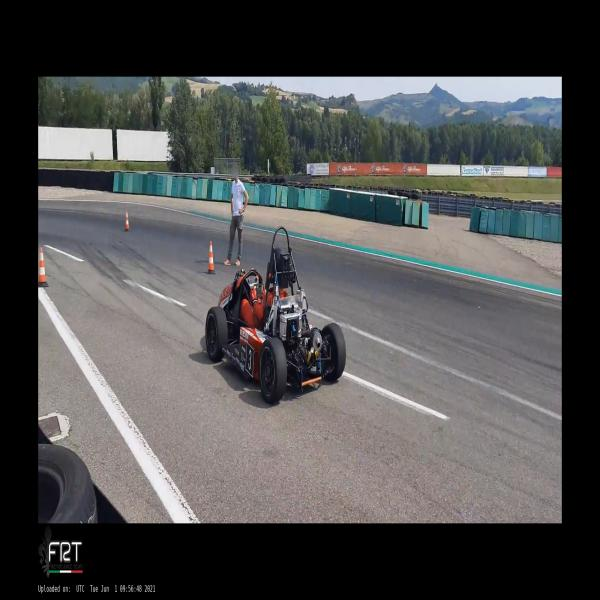large_orange_cone: (38, 248, 49, 288), (206, 241, 216, 274), (124, 210, 130, 232)
